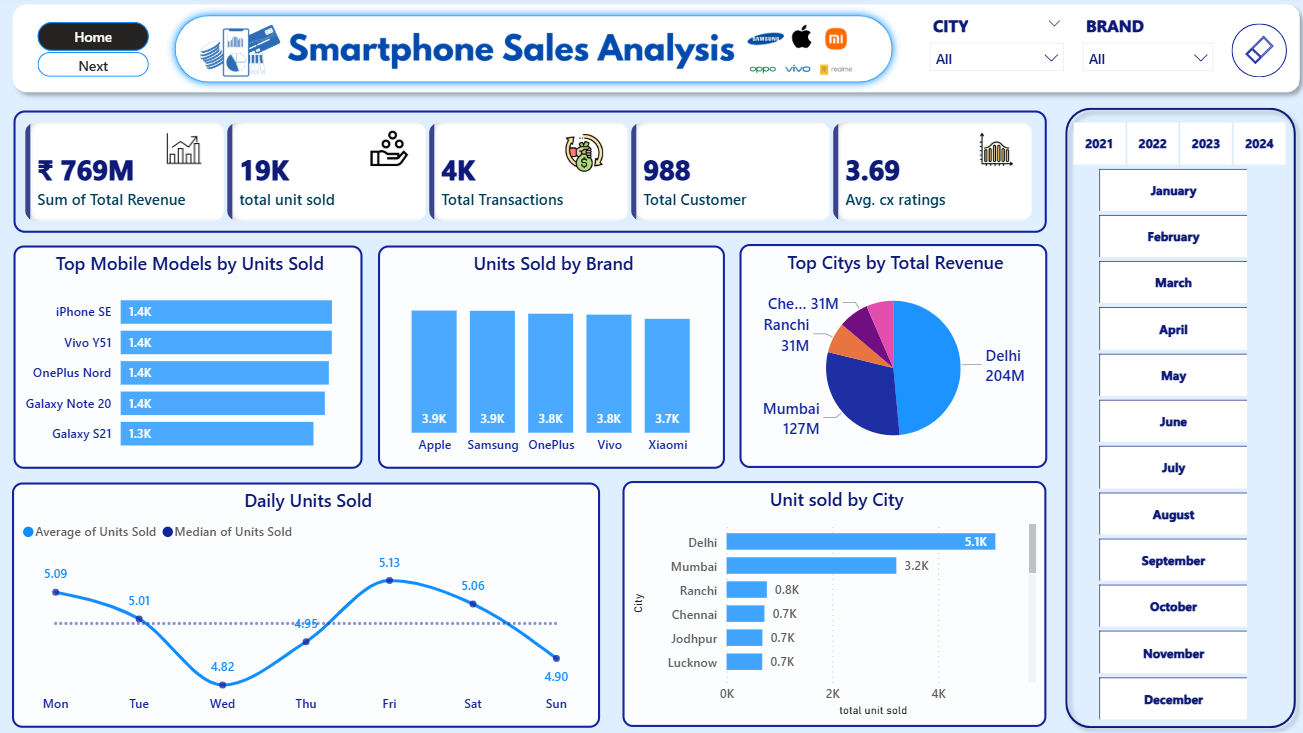

The dashboard page shown, as its layout file describes it:
{"tool":"powerbi","page":{"name":"Home","canvas":[1280,720],"ordinal":0},"visuals":[{"type":"shape","box":[11.7,0,1268.3,103.5],"z":0,"group":"g1"},{"type":"shape","box":[170.4,11.7,712.6,81.3],"z":0,"group":"g3"},{"type":"shape","box":[1033.3,100,241.7,620],"z":0},{"type":"cardVisual","fields":{"Data":["Sum(Sheet1.Total Revenue )","Sheet1.total unit sold","Sheet1.Total Transactions","Sheet1.Total Customer","Sheet1.Avg. cx ratings"]},"box":[22,112,1002.9,118.6],"z":0,"group":"g2"},{"type":"group","id":"g1","title":"Group 1","box":[11.7,0,1268.3,103.5],"z":1000},{"type":"image","box":[281.3,19,446.4,68.8],"z":1000,"group":"g3"},{"type":"image","box":[144.7,122,87.3,52.7],"z":1000,"group":"g2"},{"type":"image","box":[196.3,20.1,91.3,68.7],"z":2000,"group":"g3"},{"type":"group","id":"g2","title":"Group 2","box":[22,112,1002.9,118.6],"z":2000},{"type":"image","box":[540.2,129.3,70.9,47.3],"z":2000,"group":"g2"},{"type":"slicer","fields":{"Values":["Sheet1.City"]},"box":[900.4,13.5,150,80],"z":3000},{"type":"image","box":[727.6,21.8,112.8,62.4],"z":3000,"group":"g3"},{"type":"image","box":[360.2,125.6,53.6,47.3],"z":3000,"group":"g2"},{"type":"slicer","fields":{"Values":["Sheet1.Brand"]},"box":[1050,13.3,146.7,81.7],"z":4000},{"type":"image","box":[944.7,127.5,60.9,43.6],"z":4000,"group":"g2"},{"type":"slicer","fields":{"Values":["sales_data.Transactin date.Variation.Date Hierarchy.Year"]},"box":[1025,116.7,255,55],"z":5000},{"type":"slicer","fields":{"Values":["sales_data.Transactin date.Variation.Date Hierarchy.Month"]},"box":[1050,161.7,193.3,548.3],"z":6000},{"type":"barChart","title":"Top Mobile Models by Units Sold","fields":{"Category":["sales_data.Mobile Model"],"Y":["Sum(sales_data.Units Sold)"]},"box":[21.7,243.3,338.3,216.7],"z":7000},{"type":"columnChart","title":"Units Sold by Brand","fields":{"Category":["sales_data.Brand"],"Y":["Sum(sales_data.Units Sold)"]},"box":[375,243.3,336.7,216.7],"z":8000},{"type":"lineChart","title":"Daily Units Sold","fields":{"Y":["Avg(sales_data.Units Sold)","Median(sales_data.Units Sold)"],"Category":["sales_data.dayname"]},"box":[20.8,472.4,570.7,238.1],"z":9000},{"type":"barChart","title":"Unit sold by City","fields":{"Category":["sales_data.City"],"Y":["sales_data.total unit sold"]},"box":[612.8,472.1,411.6,238.4],"z":10000},{"type":"pieChart","title":"Top Citys by Total Revenue","fields":{"Category":["sales_data.City"],"Y":["Sum(sales_data.Total Revenue )"]},"box":[725.7,241.9,298.6,217.3],"z":11000},{"type":"actionButton","box":[1203.1,27.7,53.8,52.3],"z":12000},{"type":"pageNavigator","box":[45.7,25.7,108.3,28.3],"z":13000},{"type":"pageNavigator","box":[45.7,55.7,108.3,24.3],"z":14000},{"type":"group","id":"g3","title":"Group 1","box":[170.4,11.7,712.6,81.3],"z":15000}]}

Visuals, with their boxes in screenshot pixels (x1, y1, x2, y2), scaled from the page's 1280x720 canvas onto the 1303x733 screenshot:
shape: <region>12, 0, 1302, 105</region>
shape: <region>173, 12, 899, 95</region>
shape: <region>1052, 102, 1298, 732</region>
cardVisual - Sum(Sheet1.Total Revenue ) x Sheet1.total unit sold: <region>22, 114, 1043, 235</region>
"Group 1" group: <region>12, 0, 1302, 105</region>
image: <region>286, 19, 741, 89</region>
image: <region>147, 124, 236, 178</region>
image: <region>200, 20, 293, 90</region>
"Group 2" group: <region>22, 114, 1043, 235</region>
image: <region>550, 132, 622, 180</region>
slicer - Sheet1.City: <region>917, 14, 1069, 95</region>
image: <region>741, 22, 856, 86</region>
image: <region>367, 128, 421, 176</region>
slicer - Sheet1.Brand: <region>1069, 14, 1218, 97</region>
image: <region>962, 130, 1024, 174</region>
slicer - sales_data.Transactin date.Variation.Date Hierarchy.Year: <region>1043, 119, 1302, 175</region>
slicer - sales_data.Transactin date.Variation.Date Hierarchy.Month: <region>1069, 165, 1266, 723</region>
"Top Mobile Models by Units Sold" barChart: <region>22, 248, 366, 468</region>
"Units Sold by Brand" columnChart: <region>382, 248, 724, 468</region>
"Daily Units Sold" lineChart: <region>21, 481, 602, 723</region>
"Unit sold by City" barChart: <region>624, 481, 1043, 723</region>
"Top Citys by Total Revenue" pieChart: <region>739, 246, 1043, 467</region>
actionButton: <region>1225, 28, 1279, 81</region>
pageNavigator: <region>47, 26, 157, 55</region>
pageNavigator: <region>47, 57, 157, 81</region>
"Group 1" group: <region>173, 12, 899, 95</region>
